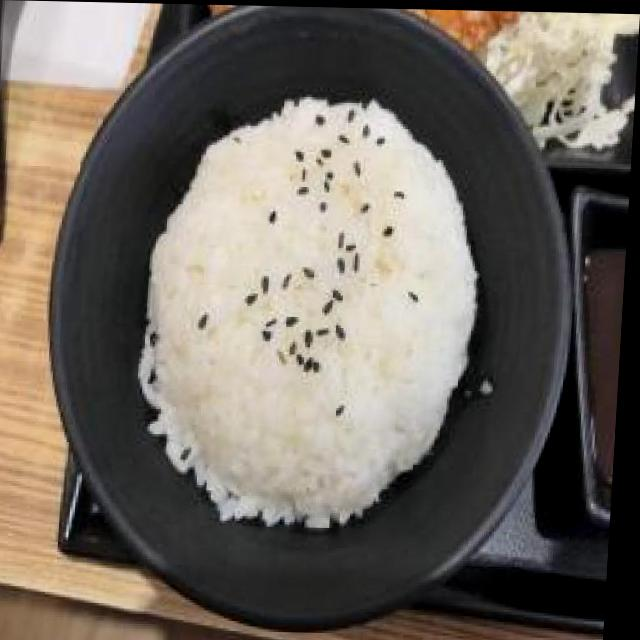rice: (130, 83, 496, 539)
